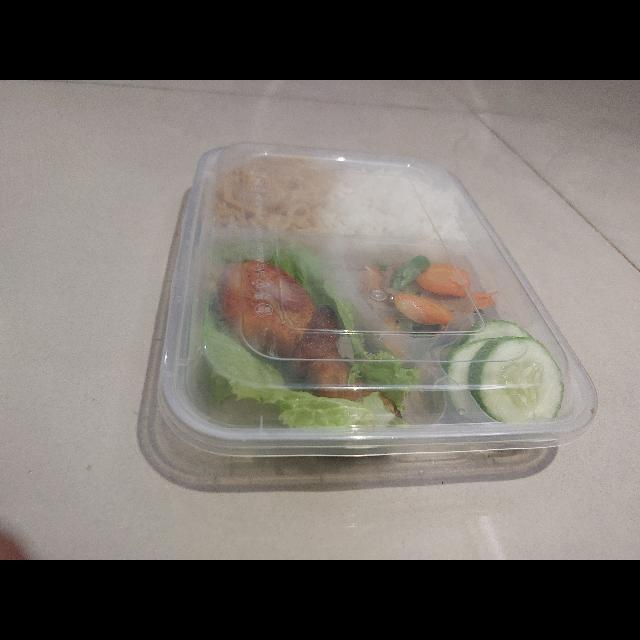bento: (149, 148, 597, 458)
